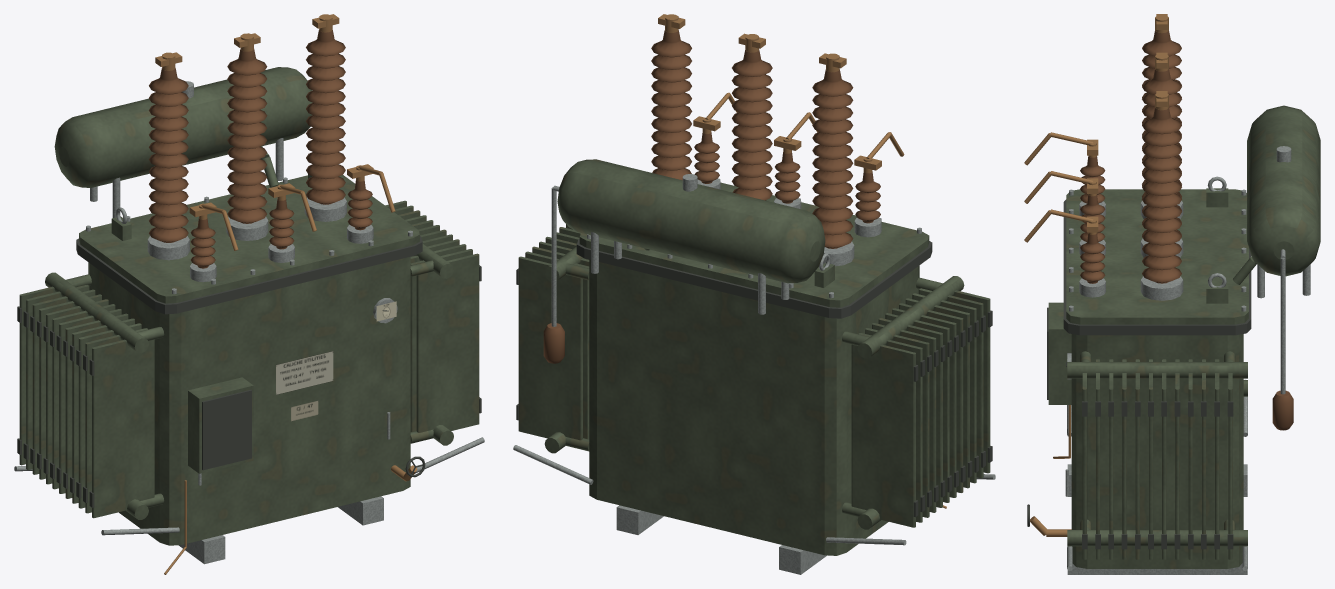
File: SM_Substation_Transformer_LOD1.fbx
3 renders of one model, left to right at view 1: azimuth 30°, elevation 25°; view 2: azimuth 150°, elevation 25°; view 3: azimuth 270°, elevation 25°, orthographic. The views are drawn at different scales.
Visible parts, largest first — view 1: SM_Substation_Transformer_LOD1; view 2: SM_Substation_Transformer_LOD1; view 3: SM_Substation_Transformer_LOD1.
Part boxes in pixels (<box>): SM_Substation_Transformer_LOD1: <box>14,14,484,574</box>; SM_Substation_Transformer_LOD1: <box>513,14,995,574</box>; SM_Substation_Transformer_LOD1: <box>1024,14,1320,574</box>.
Bounding box in the file's own units: 5.16 × 3.38 × 5.97.
